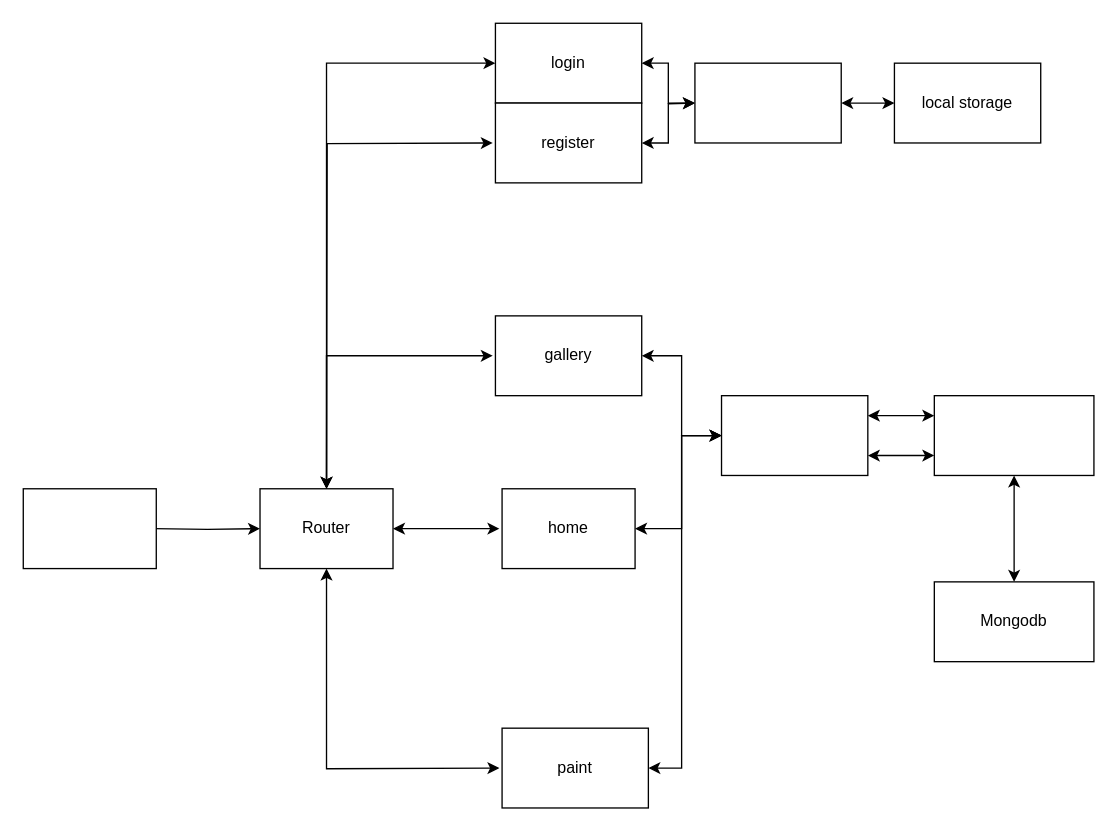
This 1117x831 diagram has some shape labels left out. The centre of each missing label's shape, as x and y in pixels:
"authContext" goes at (x=767, y=102).
"axios" goes at (x=794, y=434).
"ExpressJS Server" goes at (x=1013, y=434).
"React App" goes at (x=89, y=528).
